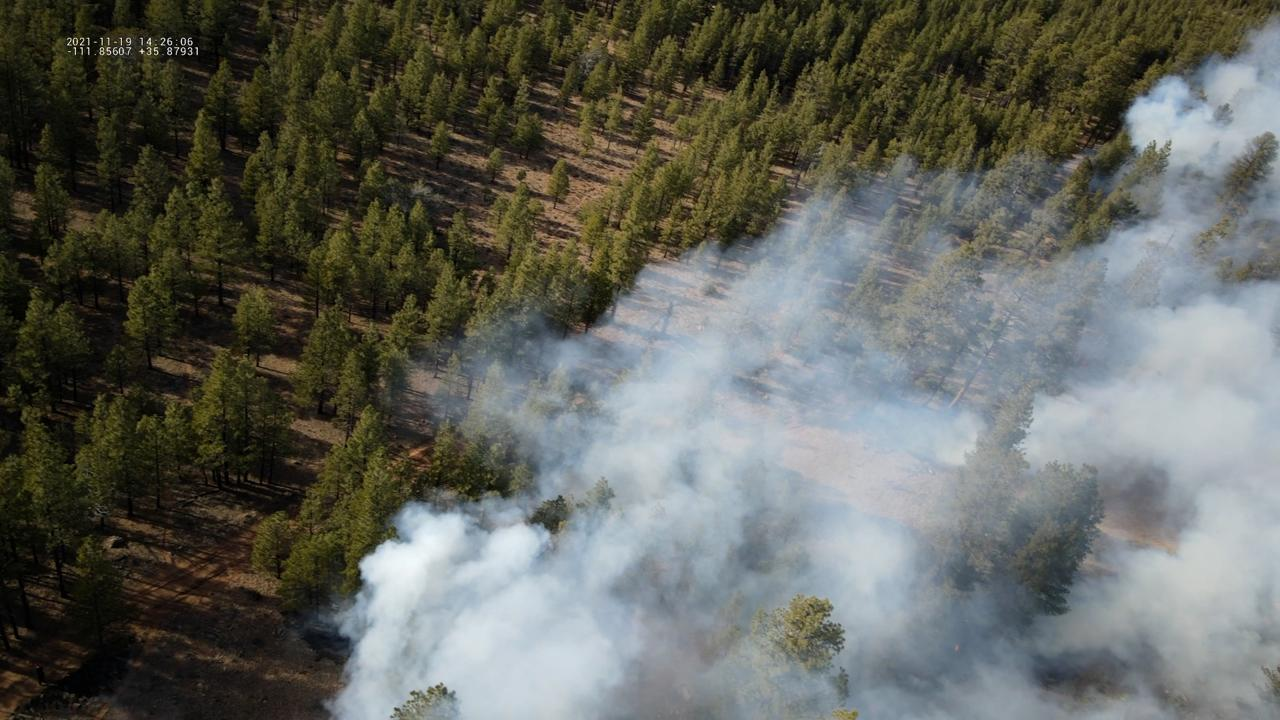smoke: (311, 7, 1280, 720)
